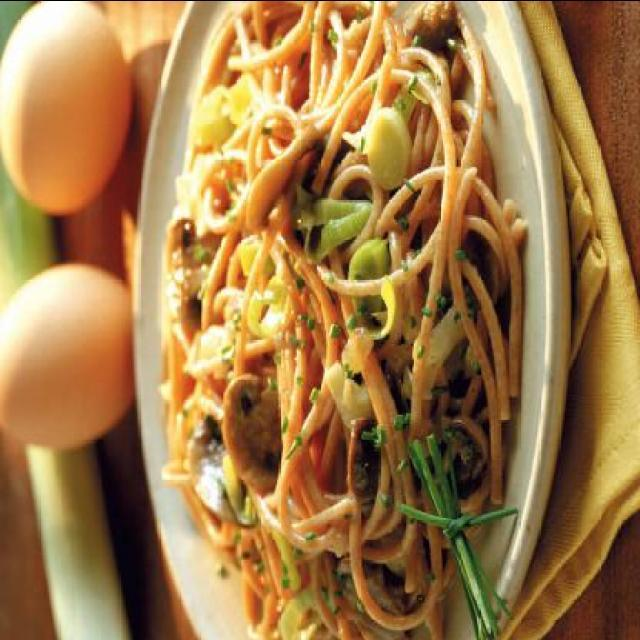Pasta with carbonara sauce: (134, 0, 560, 620)
